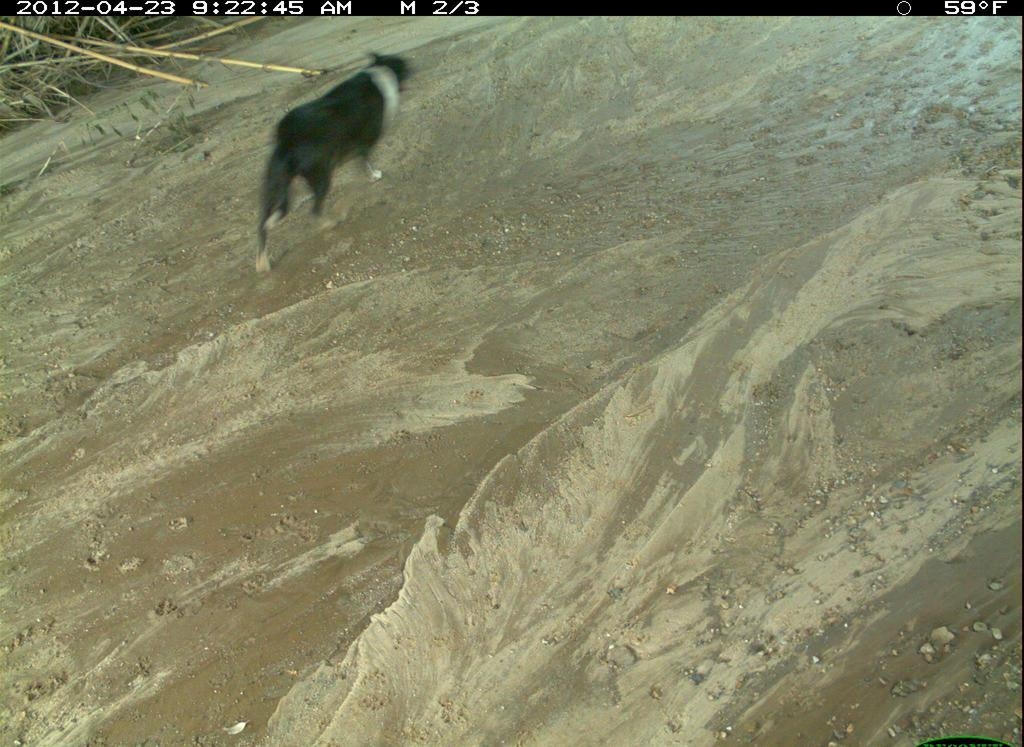dog: (500, 95, 848, 559)
